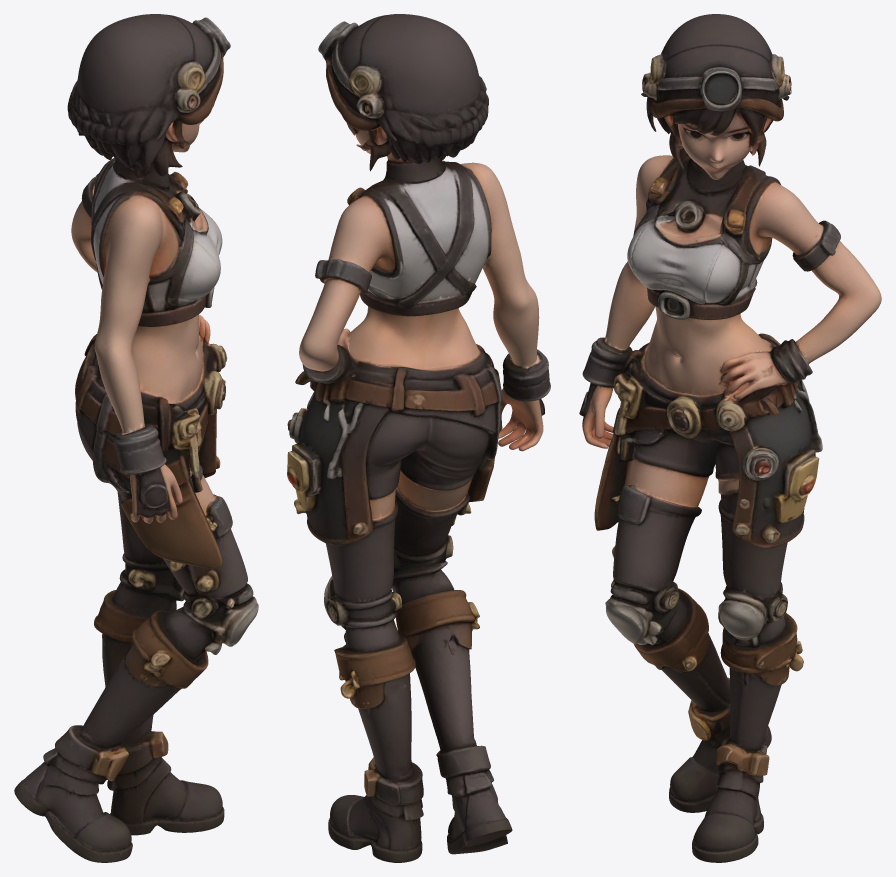
Rendered from steampunk_girl-optimized.glb.
3 views of the same model, side by side, from view 1: azimuth 30°, elevation 25°; view 2: azimuth 150°, elevation 25°; view 3: azimuth 270°, elevation 25° (orthographic). The views are drawn at different scales.
Visible parts, largest first — view 1: tripo_node_7c322355-1e10-4c87-9ac7-db38ac7607da; view 2: tripo_node_7c322355-1e10-4c87-9ac7-db38ac7607da; view 3: tripo_node_7c322355-1e10-4c87-9ac7-db38ac7607da.
Boxes of the visible parts, left/top/right/bottom form: tripo_node_7c322355-1e10-4c87-9ac7-db38ac7607da: left=14, top=14, right=258, bottom=862; tripo_node_7c322355-1e10-4c87-9ac7-db38ac7607da: left=287, top=14, right=550, bottom=862; tripo_node_7c322355-1e10-4c87-9ac7-db38ac7607da: left=579, top=14, right=881, bottom=862.
Bounding box in the file's own units: 0.2689 × 1 × 0.3406.
Materials: 1 (1 with a texture image).
